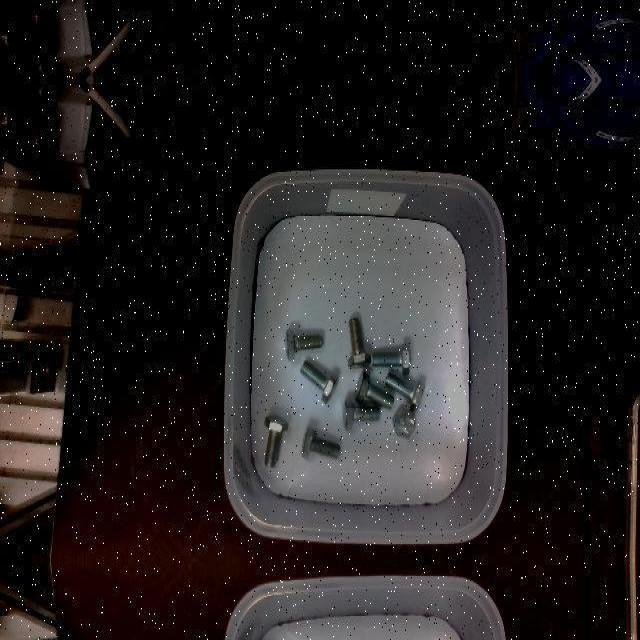screw: (299, 360, 337, 404), (384, 372, 425, 412), (354, 371, 394, 409), (264, 415, 289, 469), (301, 425, 340, 459), (342, 397, 380, 431), (347, 317, 371, 369), (373, 343, 410, 375), (285, 328, 322, 360), (391, 407, 415, 439)
